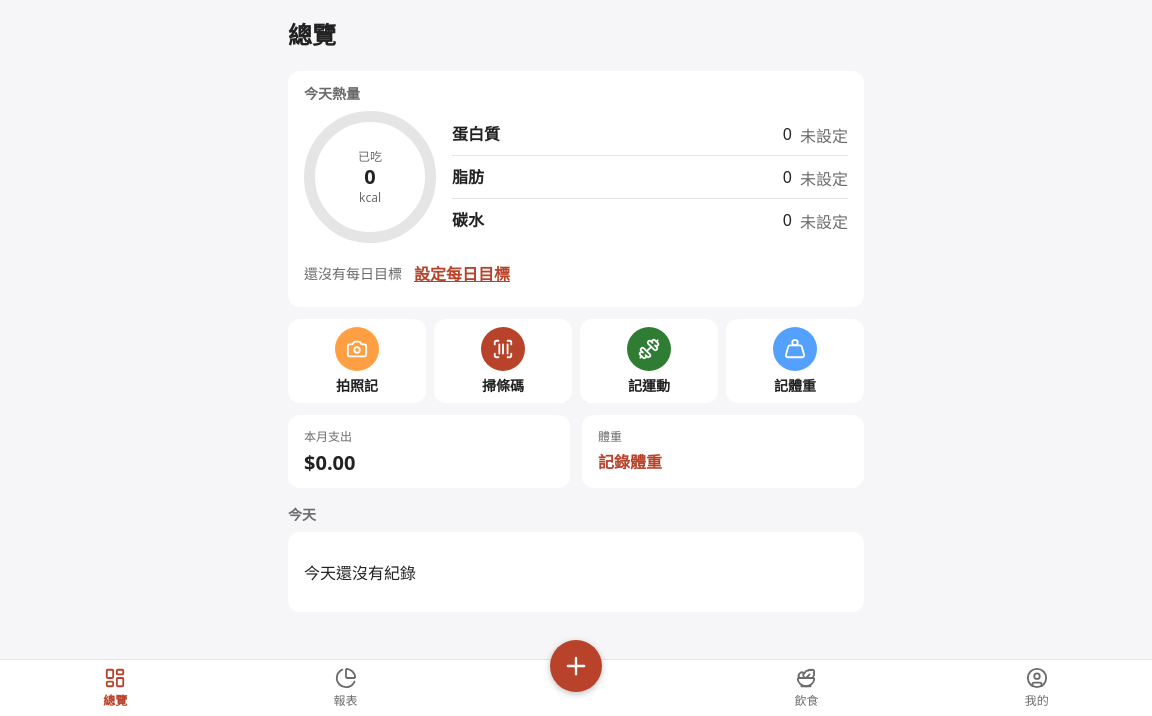
App › 從「我的」登出之後回到登入畫面
The image size is (1152, 716).
Click the link "我的".
click(1037, 688)  # box [1025,667,1049,709]
(page scrolled)
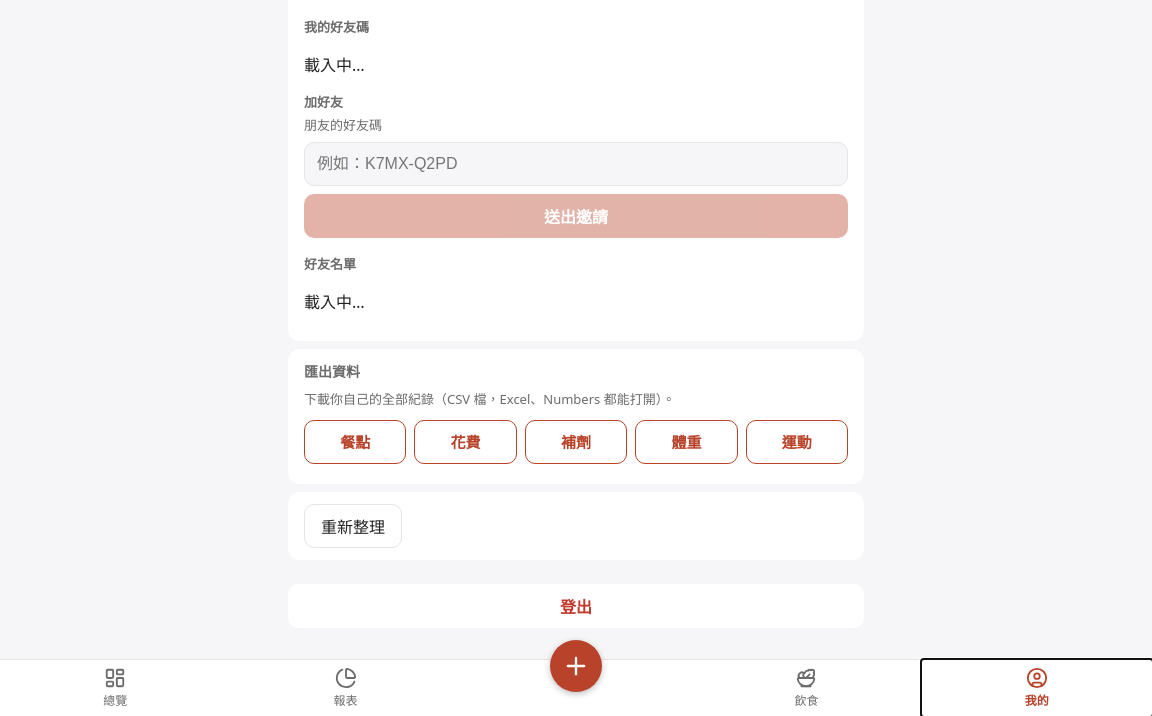
Click the button "登出".
click(576, 606)  # box [288,584,864,628]
(page scrolled)
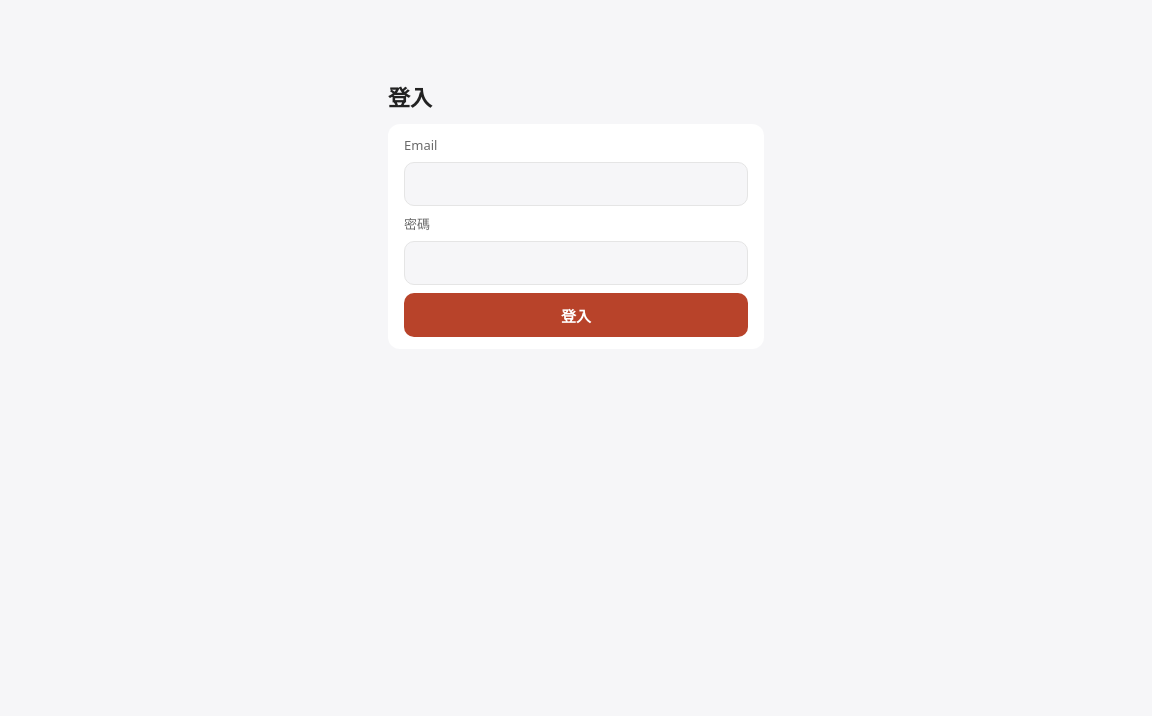
Expected: the heading "登入" is shown, [388,82,432,112]
